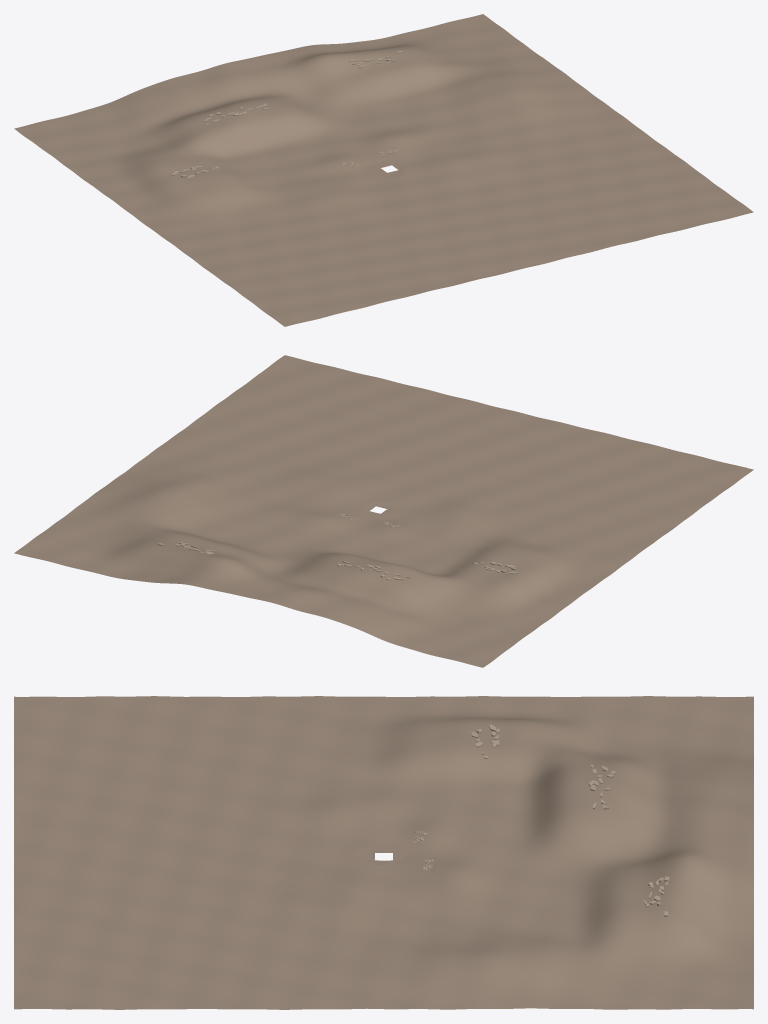
The model's file is ground-with-patch-hole.glb.
3 views of the same model, one above another, from view 1: azimuth 30°, elevation 25°; view 2: azimuth 150°, elevation 25°; view 3: azimuth 270°, elevation 25° (orthographic). The views are drawn at different scales.
Parts seen in each view (by area): view 1: Regolith_Continuous, Bedrock_BrokenSlabs; view 2: Regolith_Continuous, Bedrock_BrokenSlabs; view 3: Regolith_Continuous, Bedrock_BrokenSlabs.
Part boxes in pixels (<box>): Regolith_Continuous: <box>14,14,753,326</box>; Bedrock_BrokenSlabs: <box>171,51,402,178</box>; Regolith_Continuous: <box>14,355,753,667</box>; Bedrock_BrokenSlabs: <box>158,513,518,580</box>; Regolith_Continuous: <box>14,696,753,1009</box>; Bedrock_BrokenSlabs: <box>413,724,669,916</box>.
Bounding box in the file's own units: 500 × 20.48 × 500.
